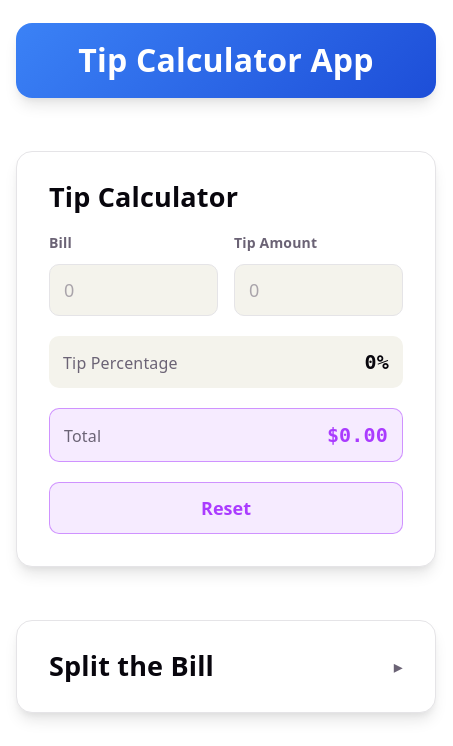
it: App › shows validation messages for invalid bill and tip values
In the field labelled "Bill": (134, 290) [49,264,218,316], type "abc"
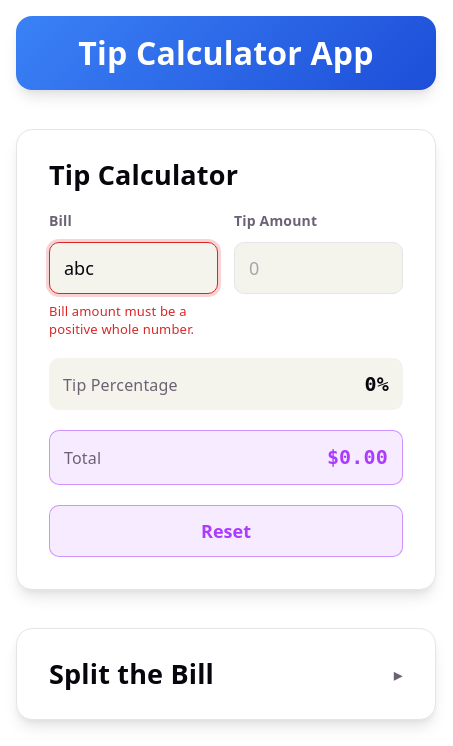
Check: the text "Bill amount must be a positive whole number." is shown, box [49,302,218,338]
Clear the field labelled "Bill": (134, 268) [49,242,218,294]
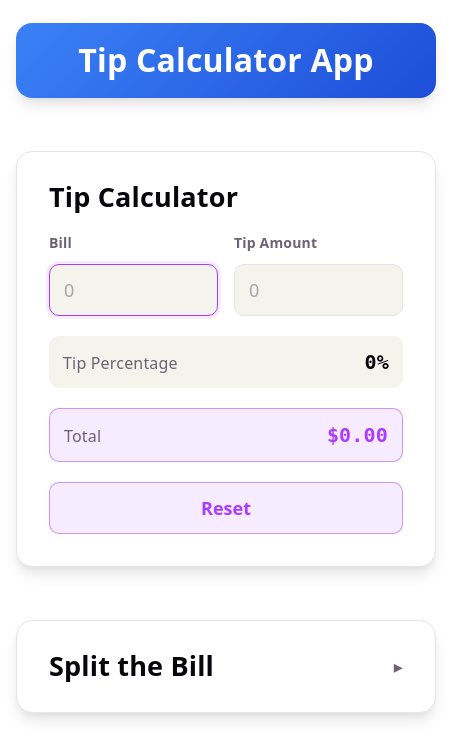
In the field labelled "Bill": (134, 290) [49,264,218,316], type "-5"
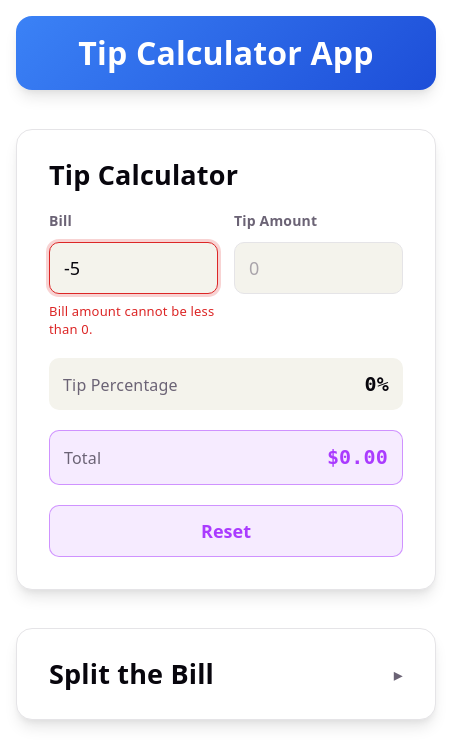
Check: the text "Bill amount cannot be less than 0." is shown, box [49,302,218,338]
Clear the field labelled "Bill": (134, 268) [49,242,218,294]
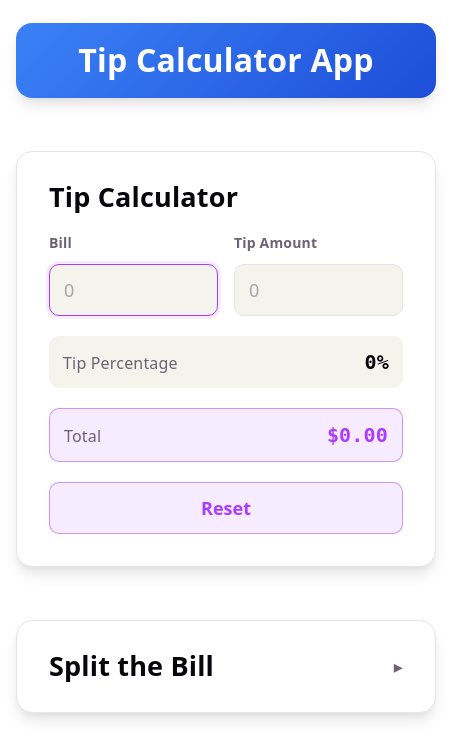
In the field labelled "Bill": (134, 290) [49,264,218,316], type "20"
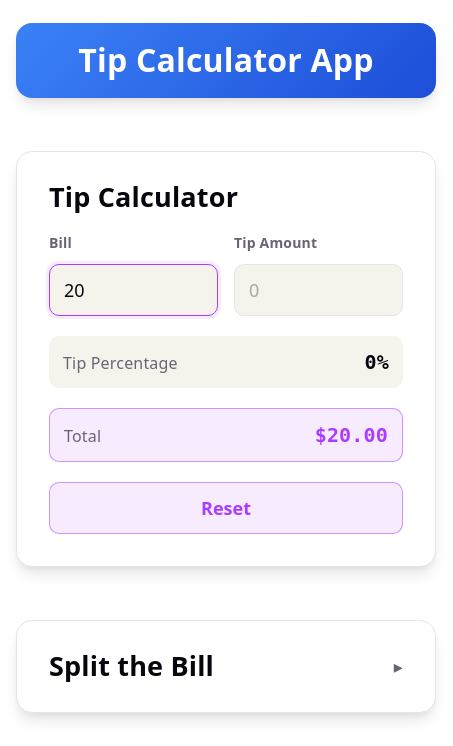
In the field labelled "Tip Amount": (318, 290) [234,264,403,316], type "25"
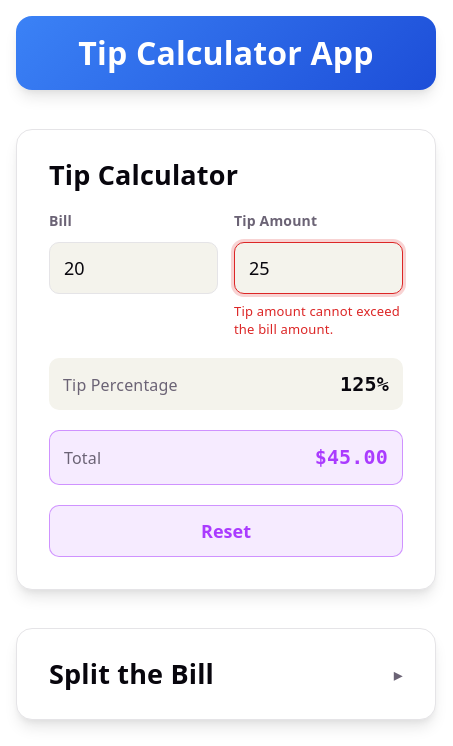
Check: the text "Tip amount cannot exceed the bill amount." is shown, box [234,302,403,338]
